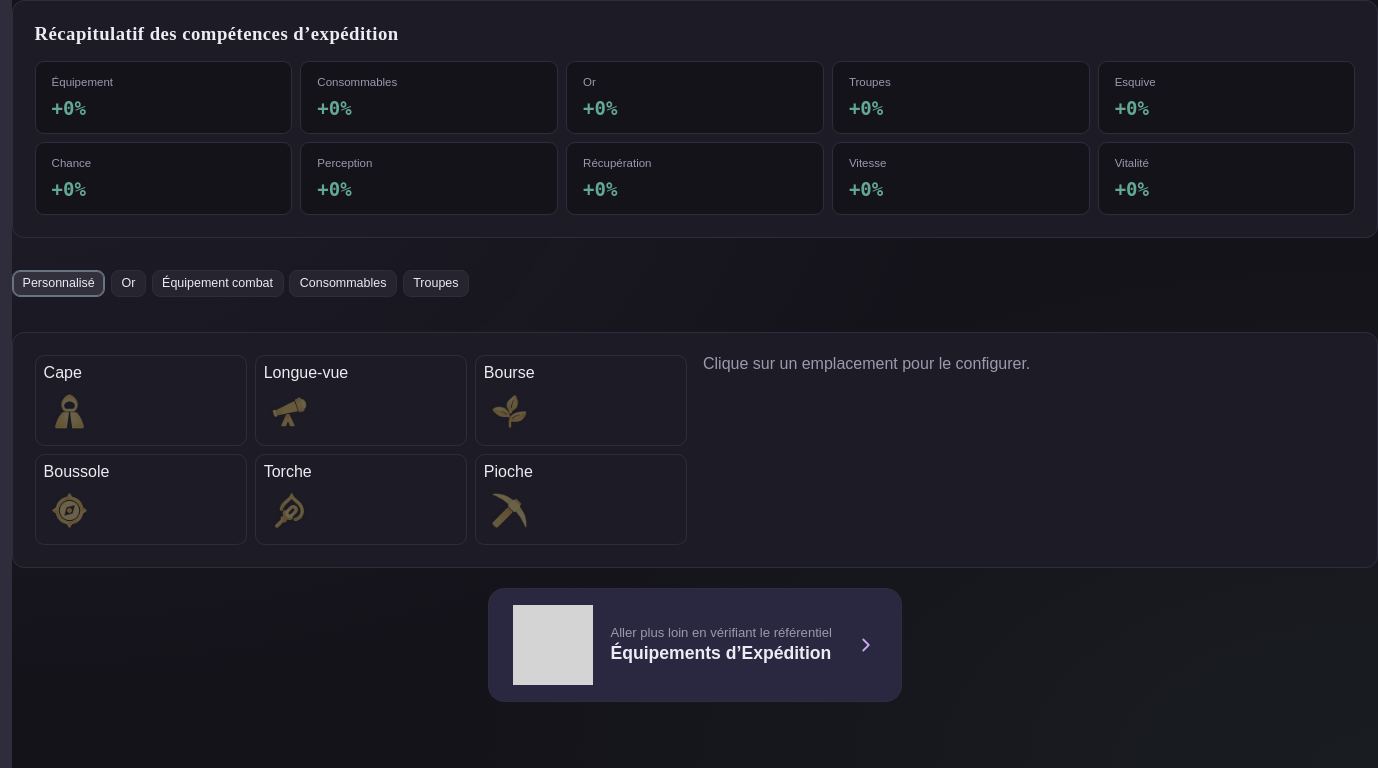
Test: ExpeditionEquipmentSimulator › shows the active slot's own contribution in parentheses next to the total (E.5)
Click the button "Cape" at [141, 400], box [35,354,247,446]
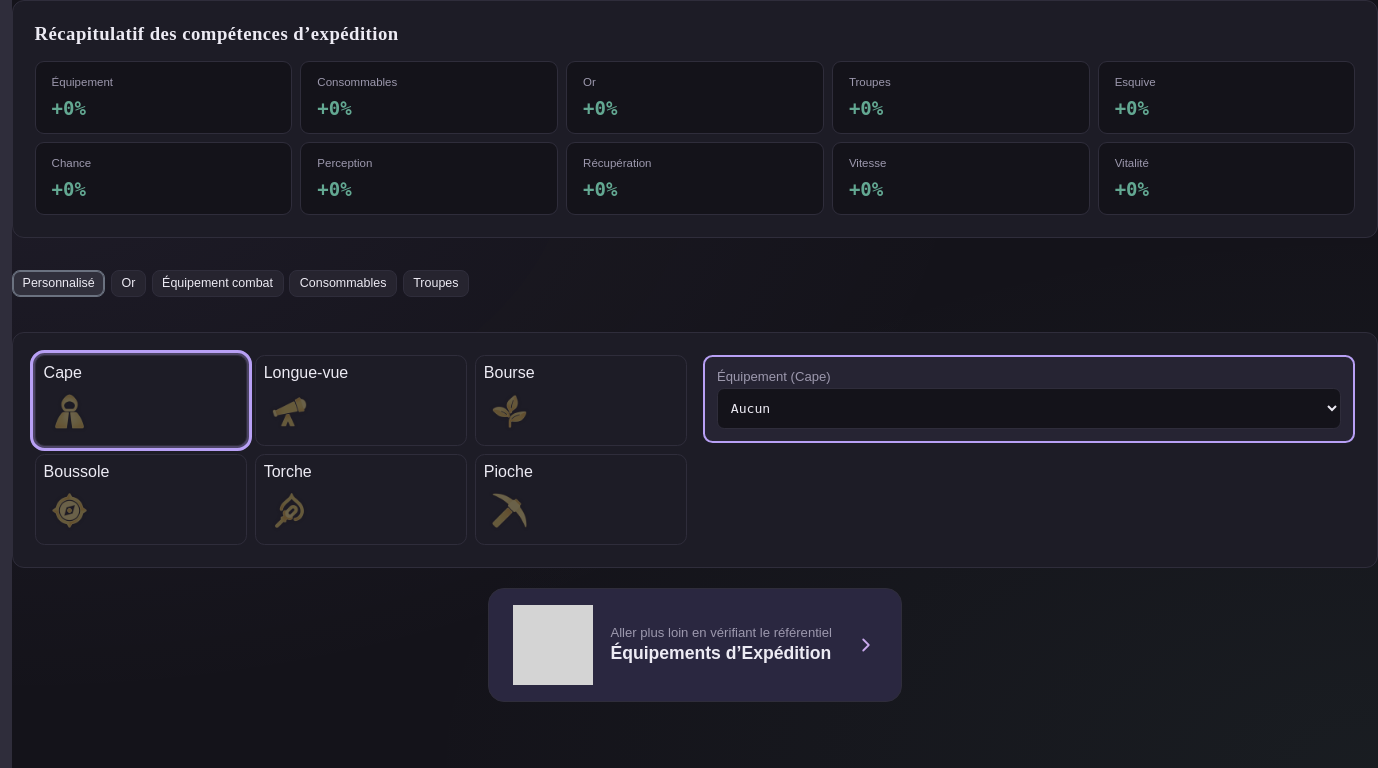
Select "Légendaire — Vanna (Or)" in the dropdown named "Équipement d’expédition Cape" at [1029, 409], box [717,388,1341,429]
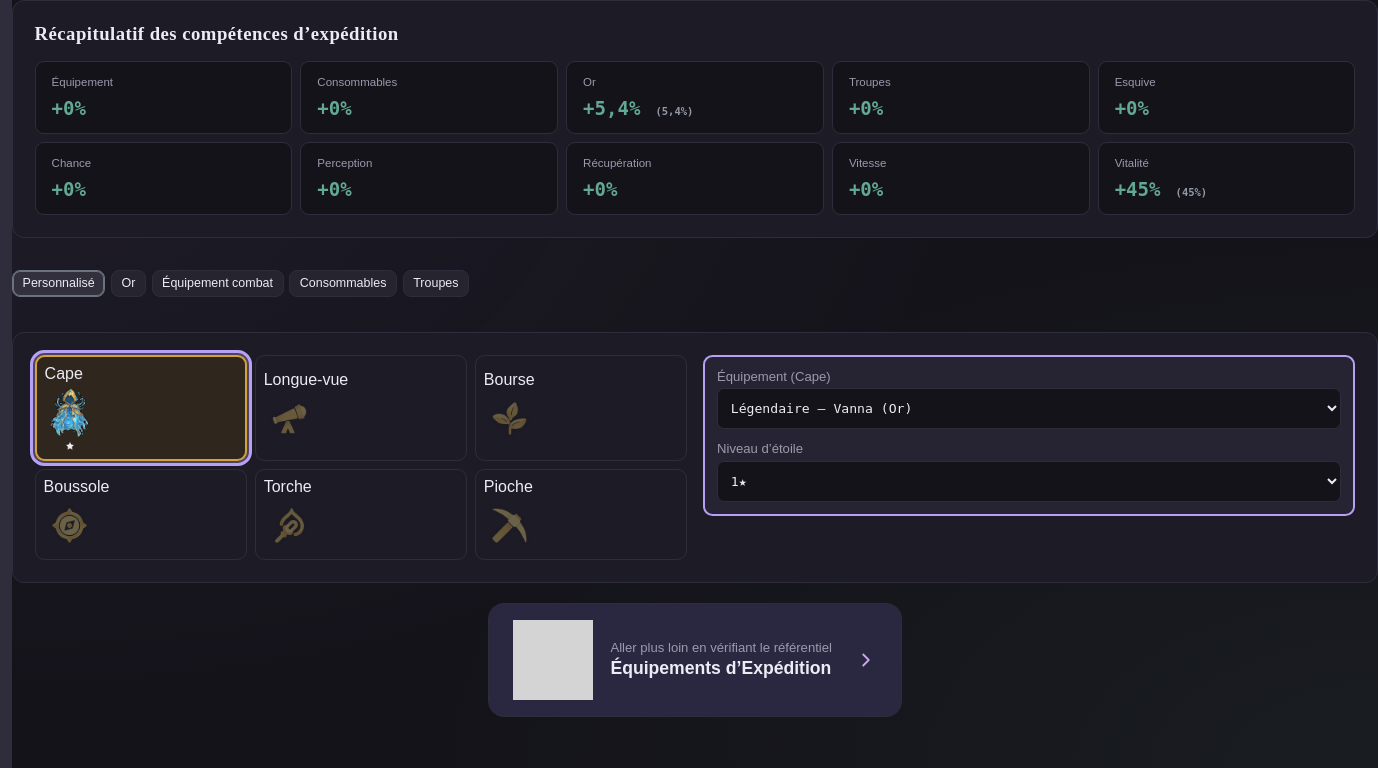
Click the button "Longue-vue" at [361, 408], box [255,354,467,461]
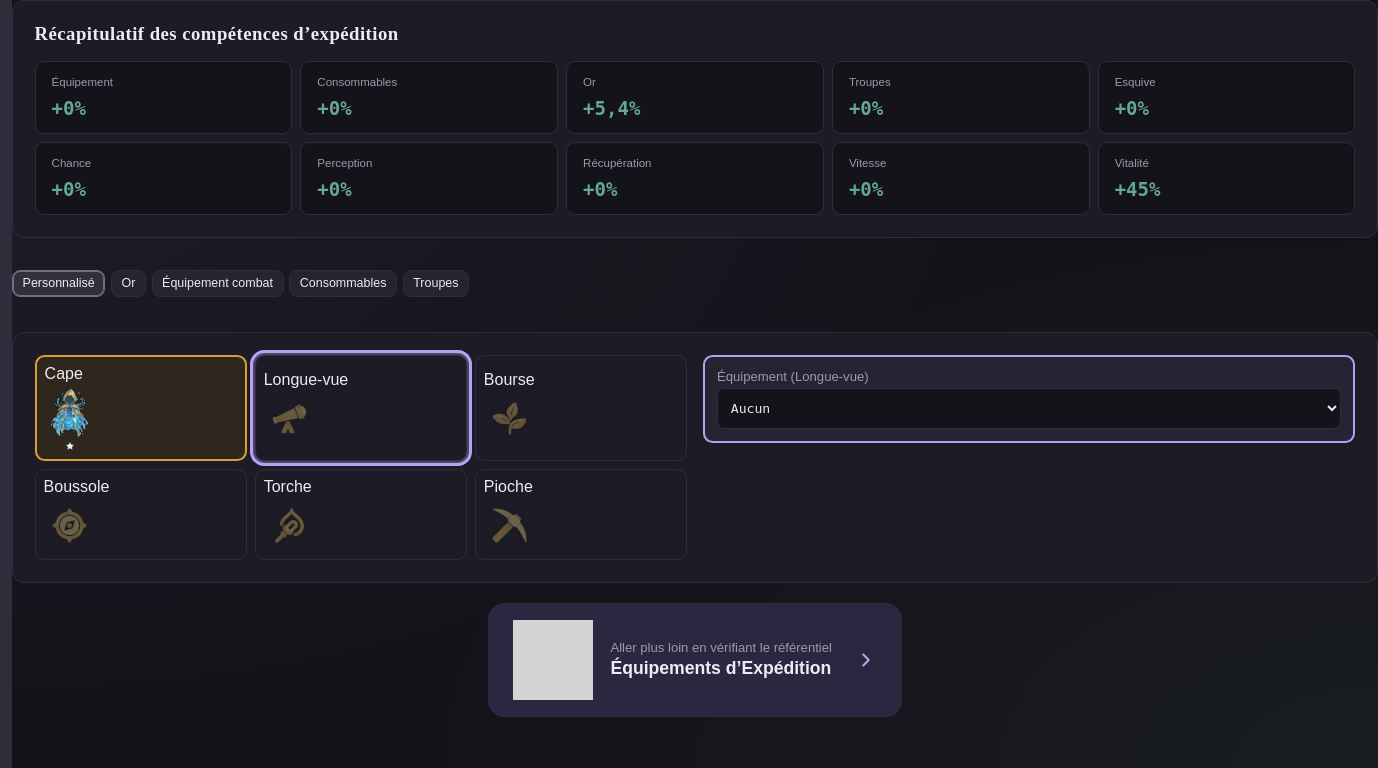
Select "Légendaire — Vanna (Or)" in the dropdown labelled "Équipement (Longue-vue)" at [1029, 409], box [717,388,1341,429]
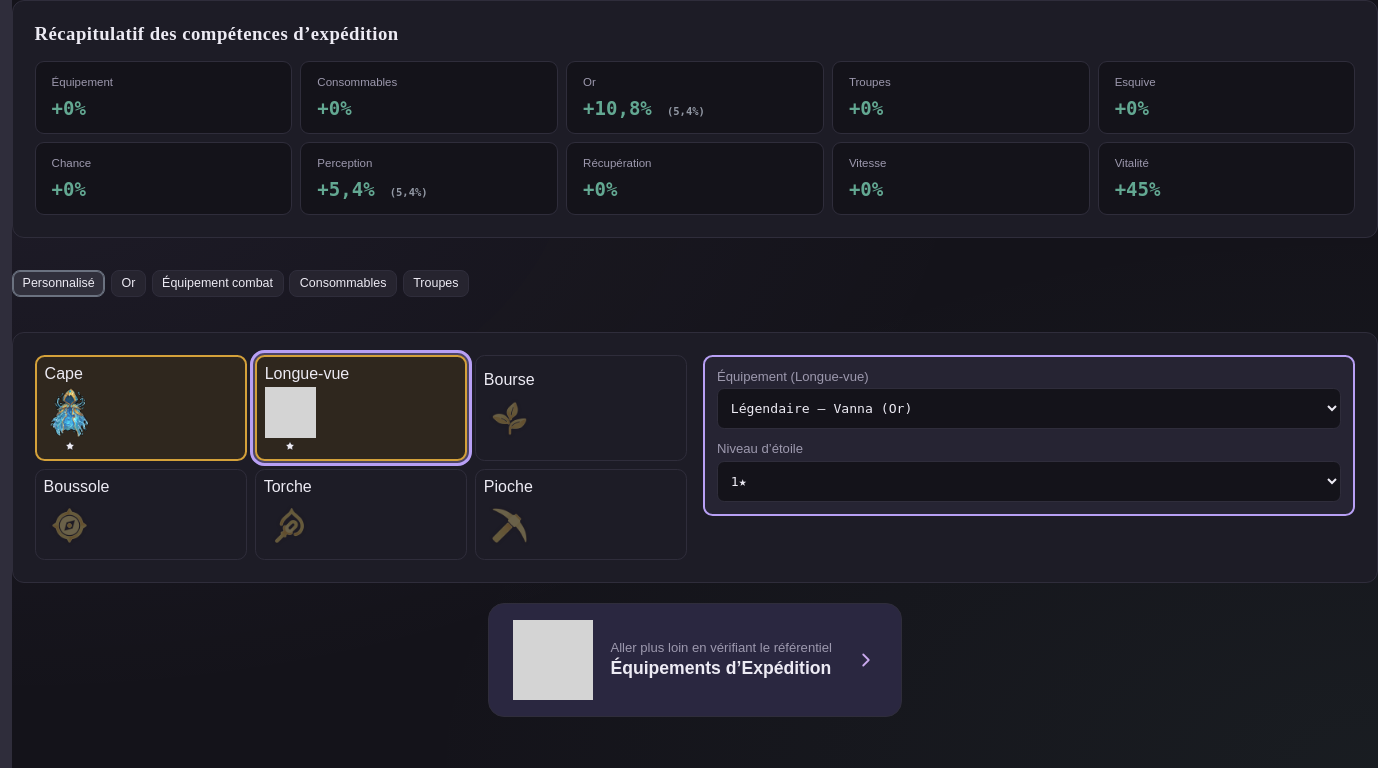
Check: the text "Or" shows "(5,4%)", box [566,61,824,134]
Check: the text "Or" shows "+10,8%", box [566,61,824,134]
